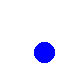circle: (34, 42, 54, 62)
